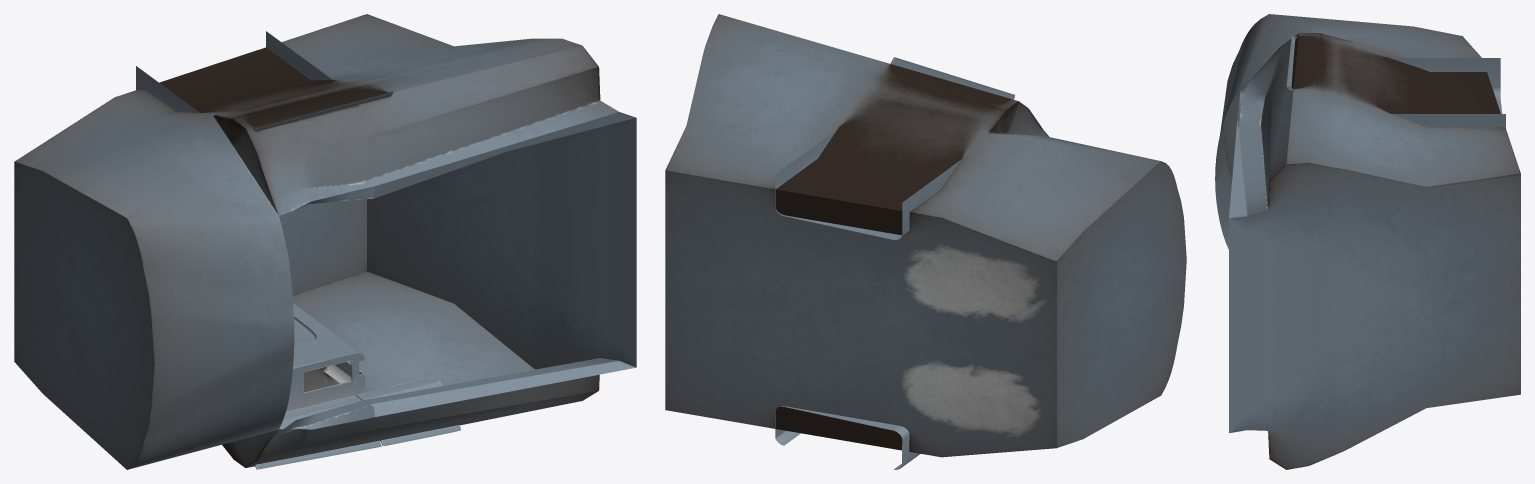
File: MiG-15bis-Cockpit.gltf
3 renders of one model, left to right at view 1: azimuth 30°, elevation 25°; view 2: azimuth 150°, elevation 25°; view 3: azimuth 270°, elevation 25°, orthographic. The views are drawn at different scales.
Parts seen in each view (by area): view 1: CP_CockpitWell, CP_LBox, CP_RBox, CP_LPFar, CP_LPNear; view 2: CP_CockpitWell, CP_RBox, CP_LBox, CP_RPan; view 3: CP_CockpitWell, CP_RBox.
Boxes of the visible parts, x1,y1,x2,y2 form: CP_CockpitWell: (14,14,636,469); CP_LBox: (286,303,365,411); CP_RBox: (136,31,332,112); CP_LPFar: (255,395,381,469); CP_LPNear: (356,378,461,446); CP_CockpitWell: (665,14,1186,457); CP_RBox: (775,130,961,240); CP_LBox: (775,406,920,469); CP_RPan: (890,57,1014,99); CP_CockpitWell: (1215,14,1520,469); CP_RBox: (1390,58,1505,127).
Size of the model in its own units: 1.5 by 1.05 by 0.9535.
1 material, 1 textured.
